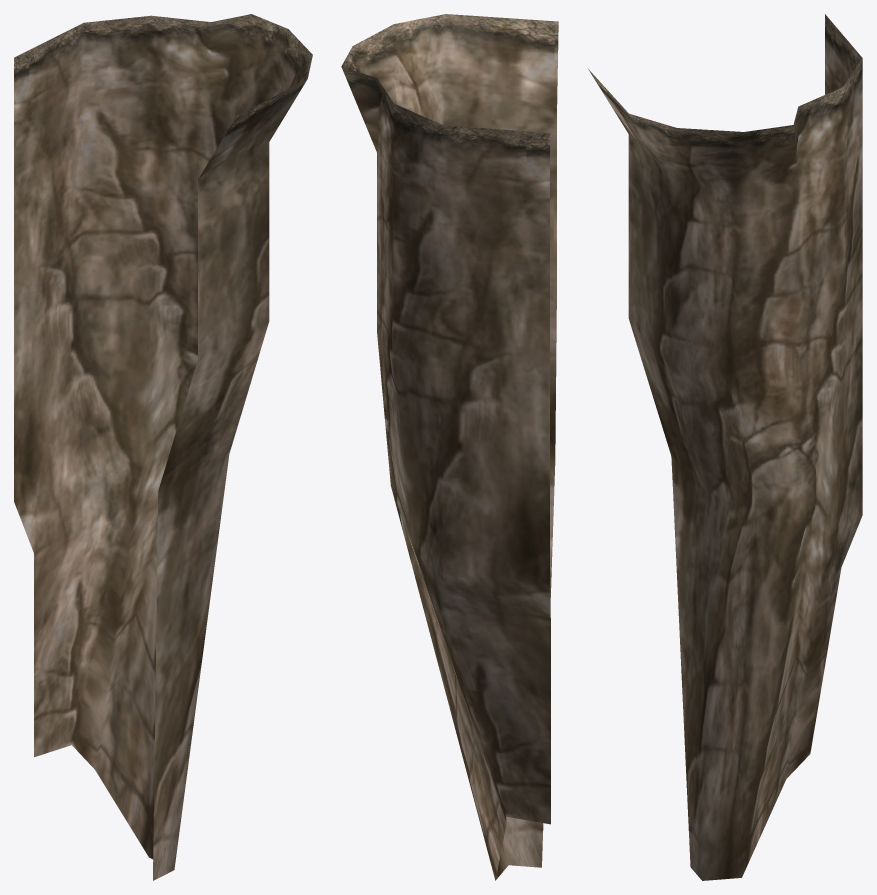
File: OVERHILL_A_01_LINE29.fbx
3 views of the same model, side by side, from view 1: azimuth 30°, elevation 25°; view 2: azimuth 150°, elevation 25°; view 3: azimuth 270°, elevation 25° (orthographic). The views are drawn at different scales.
Parts seen in each view (by area): view 1: OVERHILL_A_01_LINE29; view 2: OVERHILL_A_01_LINE29; view 3: OVERHILL_A_01_LINE29.
Part boxes in pixels (left/top/right/bottom): OVERHILL_A_01_LINE29: left=14, top=14, right=312, bottom=880; OVERHILL_A_01_LINE29: left=341, top=14, right=558, bottom=880; OVERHILL_A_01_LINE29: left=588, top=14, right=862, bottom=880.
Bounding box in the file's own units: 28839 × 93099 × 28439.
2 materials, 2 textured.
